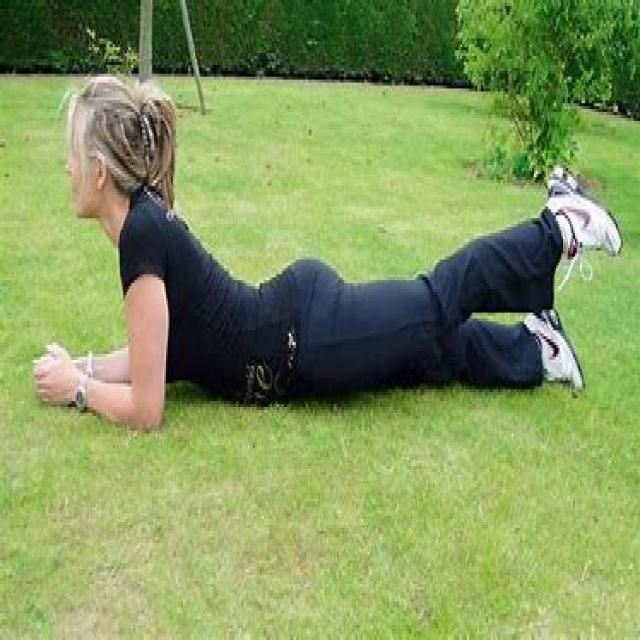lie: (32, 188, 620, 425)
